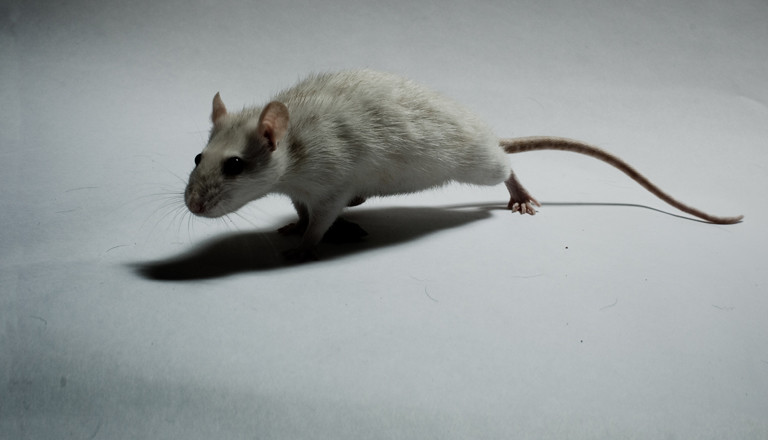rat: (150, 47, 756, 255)
